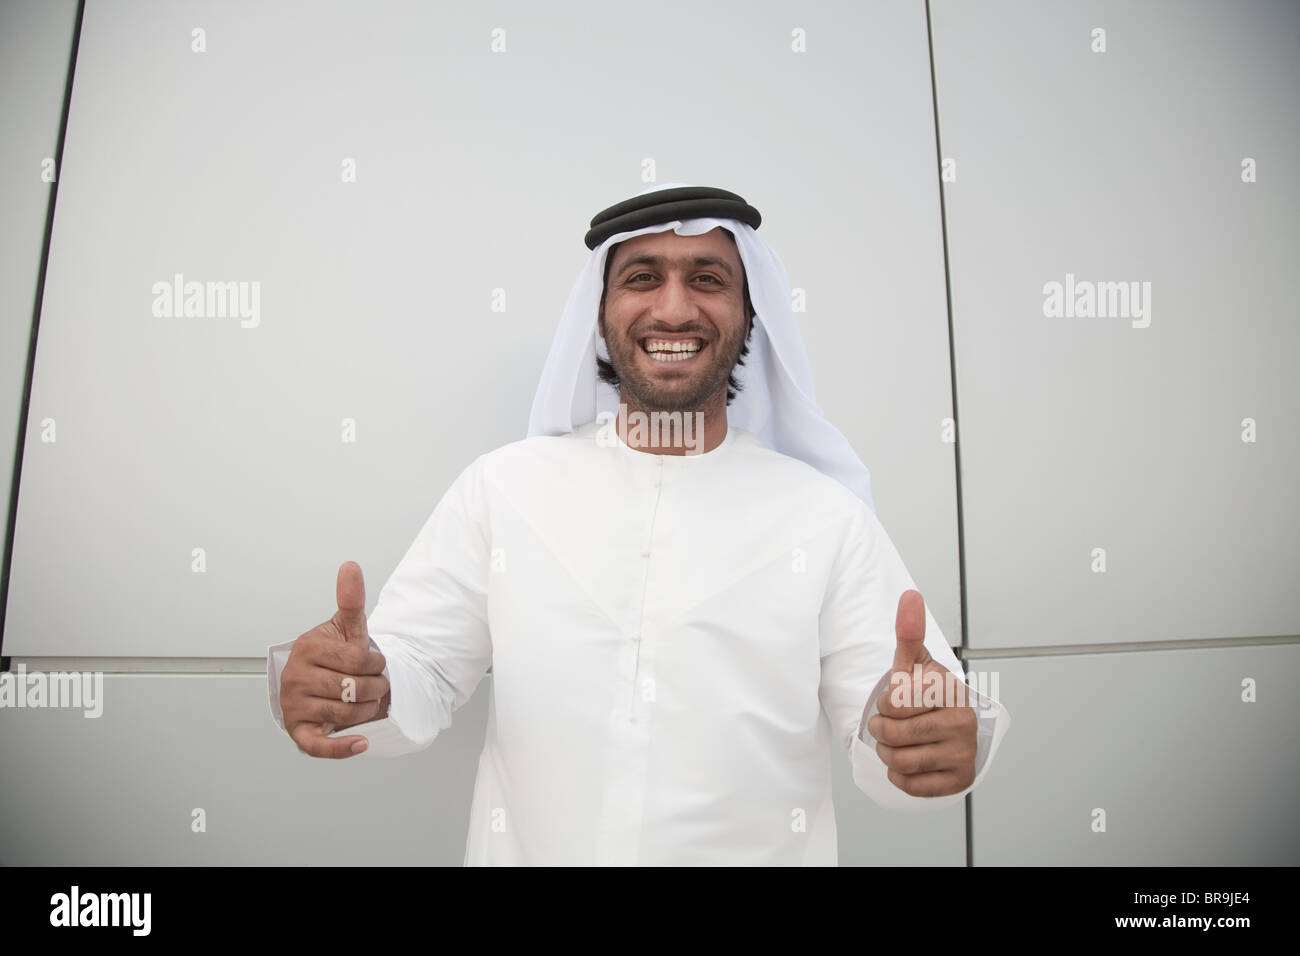thumbsUp: (852, 583, 999, 805), (258, 558, 405, 766)
